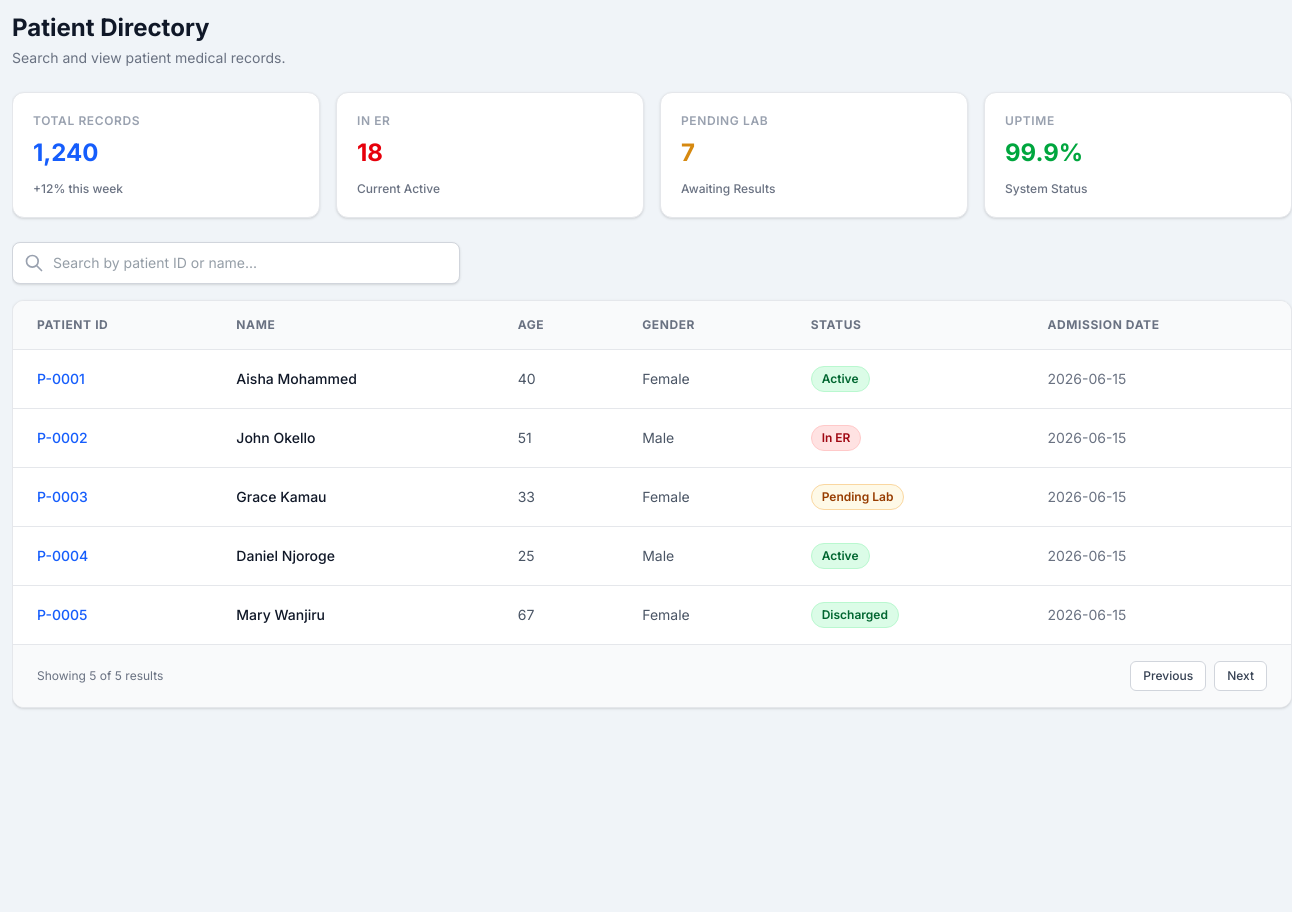
it: patient presentational components › opens a seeded patient detail and returns to the directory
Click the text "Aisha Mohammed": x=353, y=379 [212, 350, 494, 408]
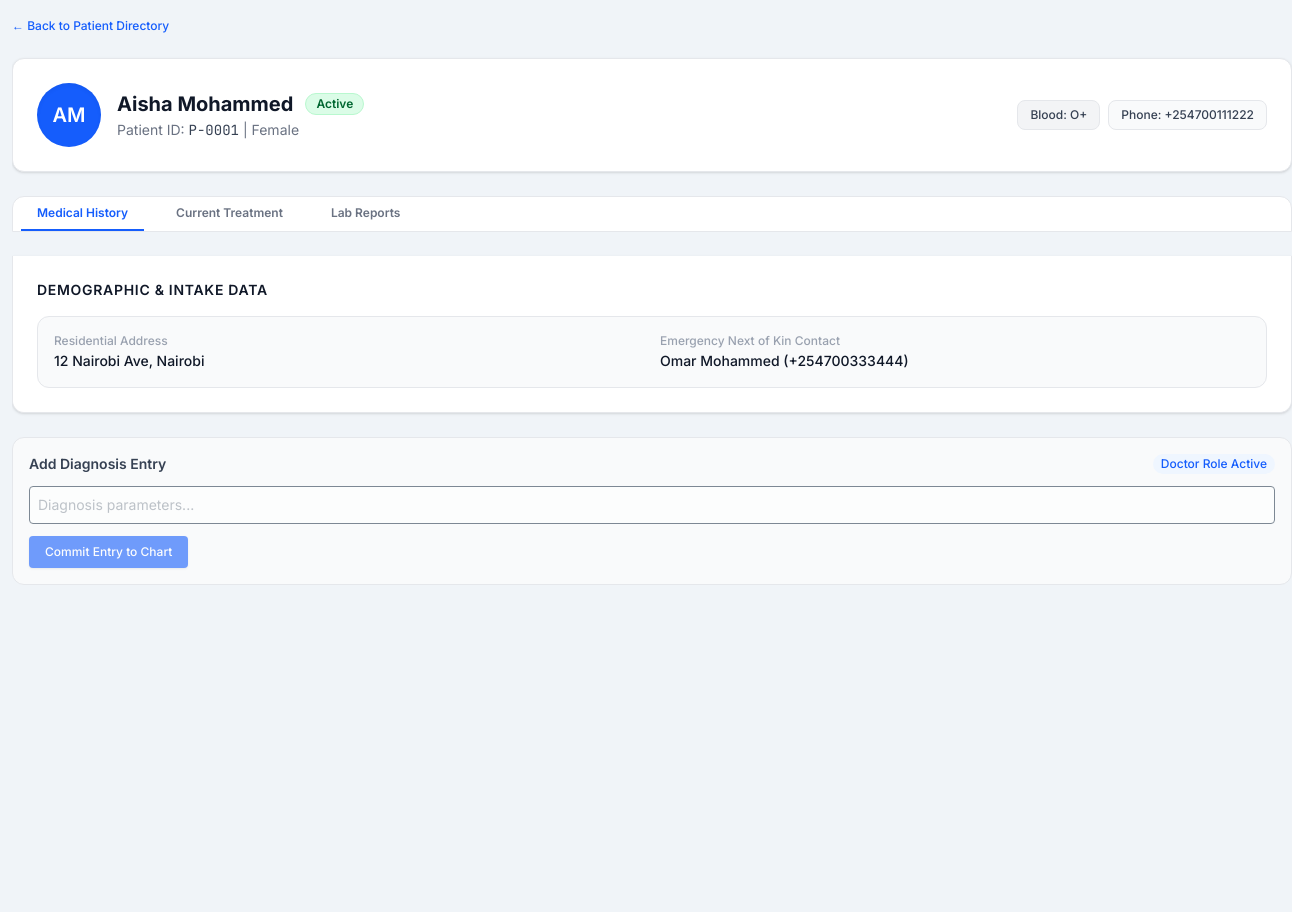
expect the text "Patient ID: P-0001 | Female" is shown: met, box [117, 121, 299, 139]
expect the text "Omar Mohammed (+254700333444)" is shown: met, box [660, 352, 909, 369]
Click the button "← Back to Patient Directory": x=91, y=26 [12, 18, 169, 34]
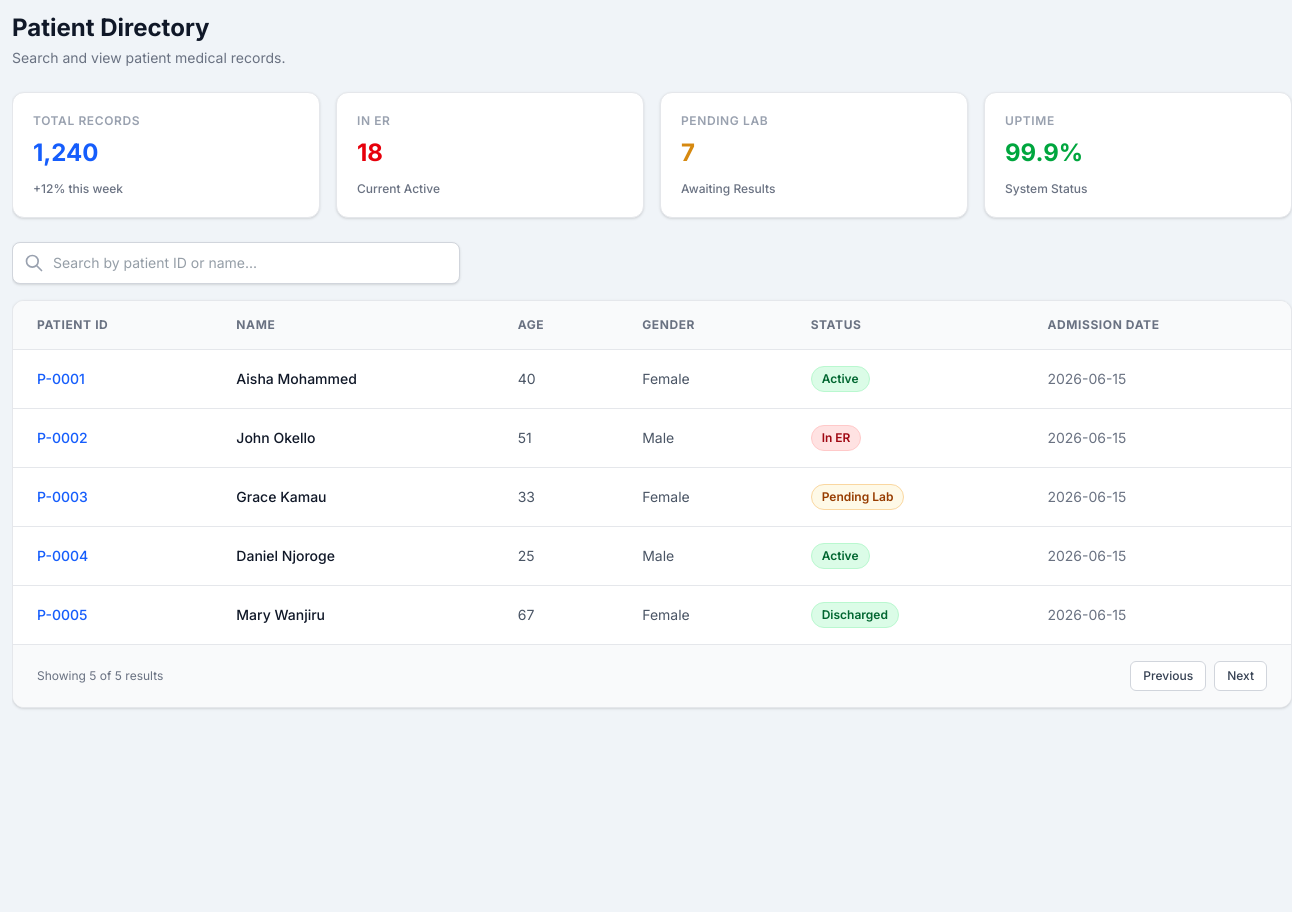
expect the text "Search and view patient medical records." is shown: met, box [12, 49, 285, 66]
